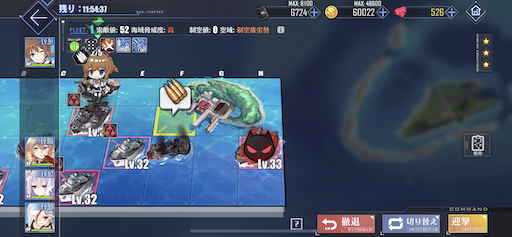boss: (237, 125, 281, 168)
lv3: (50, 155, 96, 201), (103, 123, 146, 170), (67, 94, 112, 135)
